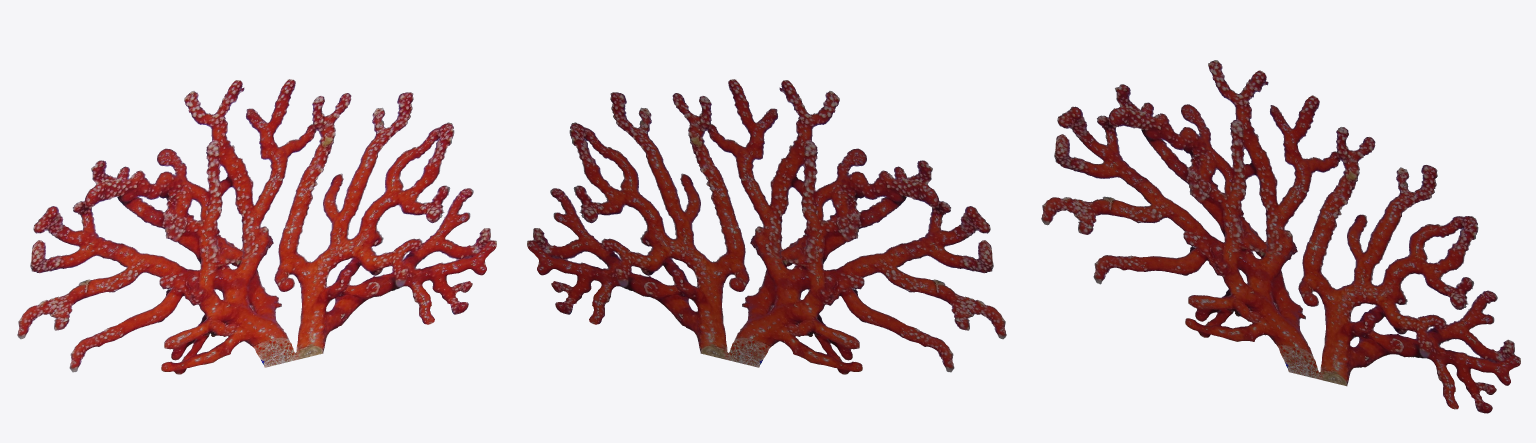
Rendered from Coral_08.fbx.
The picture shows the model from 3 angles, left to right: view 1: azimuth 30°, elevation 25°; view 2: azimuth 150°, elevation 25°; view 3: azimuth 330°, elevation 25°; orthographic projection.
Visible parts, largest first — view 1: pPlane88; view 2: pPlane88; view 3: pPlane88.
Part boxes in pixels (x1,y1,x2,y2): pPlane88: (17,79,496,374); pPlane88: (527,79,1006,374); pPlane88: (1041,60,1520,413).
Bounding box in the file's own units: 1.7 × 1 × 0.
